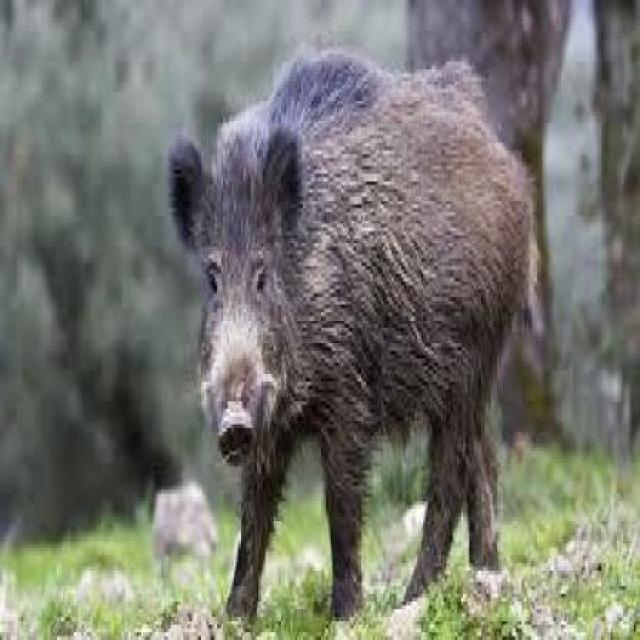wildboar: (158, 37, 550, 640)
